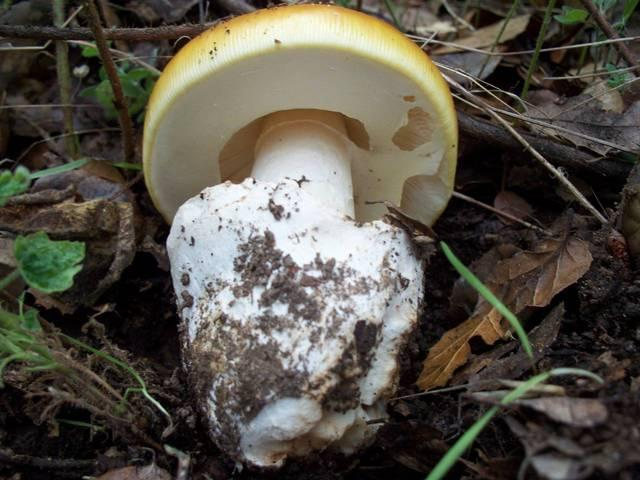edible_mushroom: (140, 2, 459, 472)
